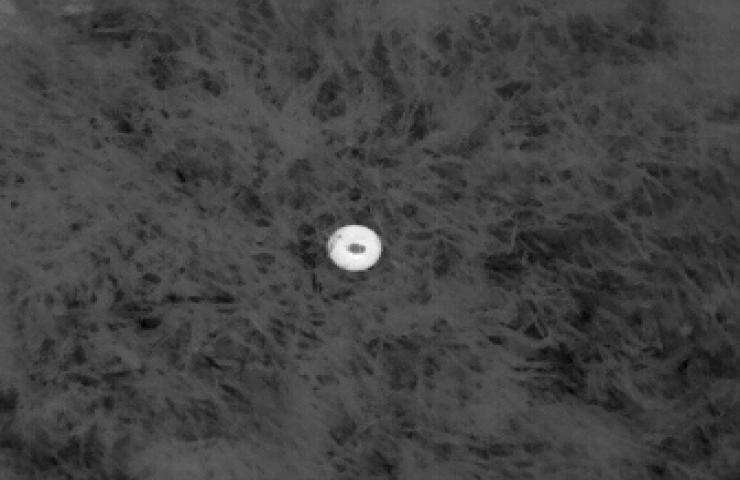landmines: (322, 220, 390, 277)
